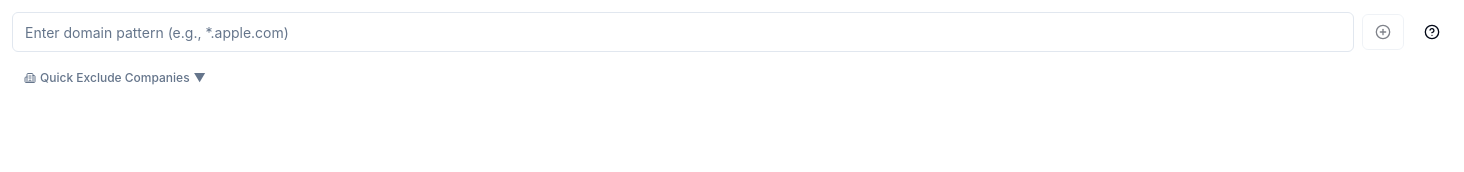
Scenario: 🧱 DomainExclusionInput Component › Pattern Validation › should reject patterns with invalid characters
The image size is (1464, 172).
Type "*.exam ple.com" into the field with placeholder "Enter domain pattern (e.g., *.apple.com)" at (683, 32), box [12, 12, 1354, 52]
Then press Enter
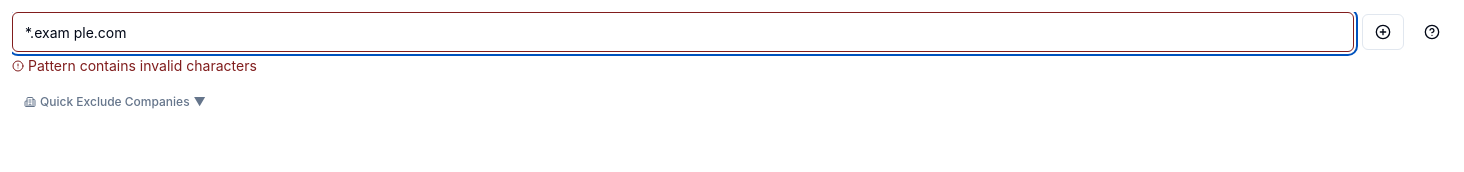
Expected: the text "Pattern contains invalid characters" is shown, [28, 56, 257, 76]
